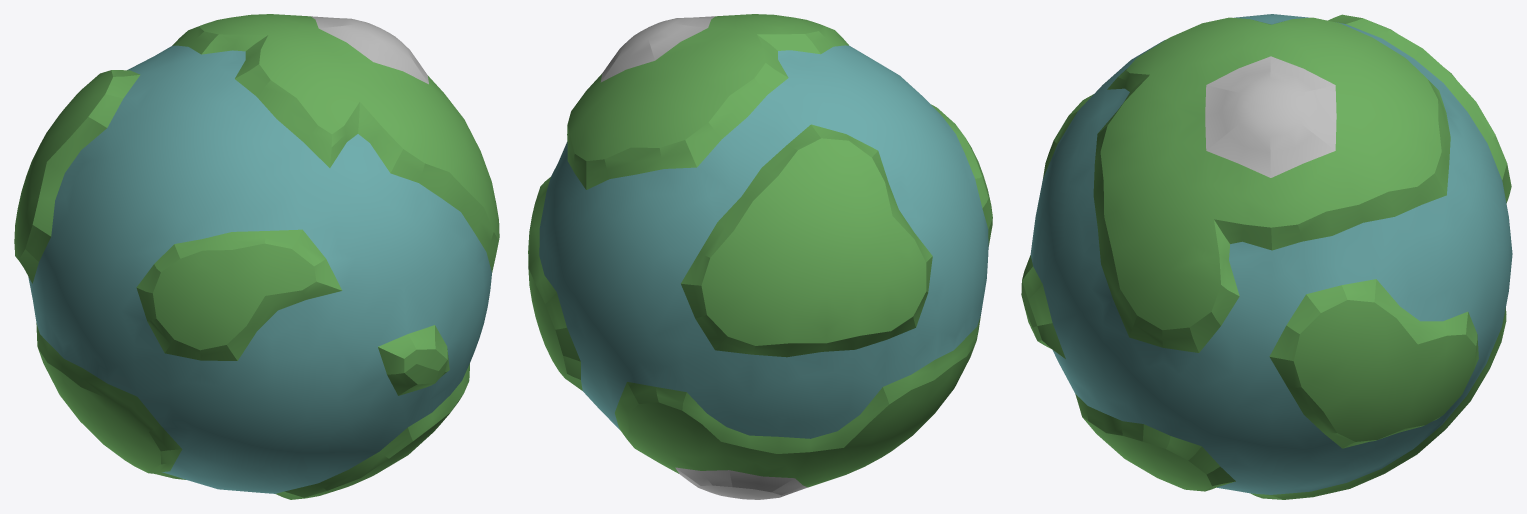
The model's file is Planet_1_Icosphere.obj.
The picture shows the model from 3 angles, left to right: view 1: azimuth 30°, elevation 25°; view 2: azimuth 150°, elevation 25°; view 3: azimuth 270°, elevation 25°; orthographic projection. The views are drawn at different scales.
Parts seen in each view (by area): view 1: Planet_1_Icosphere.001; view 2: Planet_1_Icosphere.001; view 3: Planet_1_Icosphere.001.
Part boxes in pixels (left/top/right/bottom): Planet_1_Icosphere.001: left=14, top=14, right=499, bottom=499; Planet_1_Icosphere.001: left=528, top=14, right=992, bottom=499; Planet_1_Icosphere.001: left=1021, top=14, right=1512, bottom=499.
Size of the model in its own units: 3.81 by 3.95 by 3.83.
